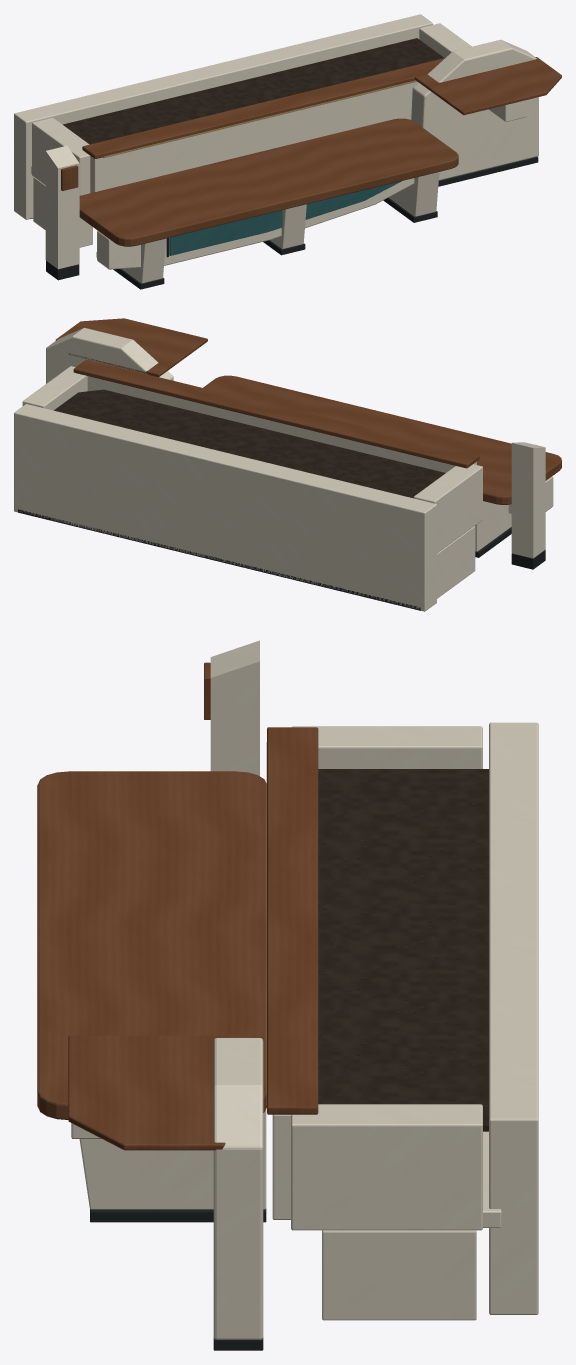
File: AST-SAL-004.glb
3 renders of one model, top to bottom at view 1: azimuth 30°, elevation 25°; view 2: azimuth 150°, elevation 25°; view 3: azimuth 270°, elevation 25°, orthographic. The views are drawn at different scales.
Visible parts, largest first — view 1: AST-SAL-004__ivory_enamel, AST-SAL-004__warm_walnut, AST-SAL-004__botanical_soil, AST-SAL-004__teal_weave, AST-SAL-004__dark_rubber, AST-SAL-004__champagne_metal; view 2: AST-SAL-004__ivory_enamel, AST-SAL-004__warm_walnut, AST-SAL-004__botanical_soil, AST-SAL-004__dark_rubber; view 3: AST-SAL-004__ivory_enamel, AST-SAL-004__warm_walnut, AST-SAL-004__botanical_soil, AST-SAL-004__dark_rubber.
Part boxes in pixels (x1,y1,x2,y2): AST-SAL-004__ivory_enamel: (14, 14, 538, 283); AST-SAL-004__warm_walnut: (61, 57, 561, 246); AST-SAL-004__botanical_soil: (63, 38, 443, 144); AST-SAL-004__teal_weave: (169, 181, 401, 255); AST-SAL-004__dark_rubber: (30, 156, 538, 289); AST-SAL-004__champagne_metal: (103, 80, 416, 157); AST-SAL-004__ivory_enamel: (14, 327, 553, 611); AST-SAL-004__warm_walnut: (55, 318, 561, 504); AST-SAL-004__botanical_soil: (54, 389, 445, 498); AST-SAL-004__dark_rubber: (18, 509, 545, 610); AST-SAL-004__ivory_enamel: (71, 640, 538, 1339); AST-SAL-004__warm_walnut: (37, 662, 318, 1150); AST-SAL-004__botanical_soil: (318, 769, 488, 1131); AST-SAL-004__dark_rubber: (90, 1209, 266, 1350).
Size of the model in its own units: 3.6 by 0.86 by 1.62.
Materials: 6 (6 with a texture image).
